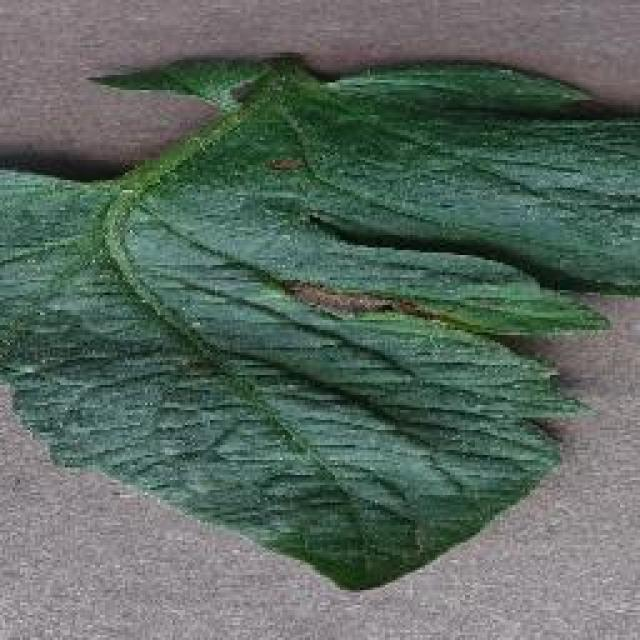Tomato___Early_blight: (0, 54, 638, 592)
